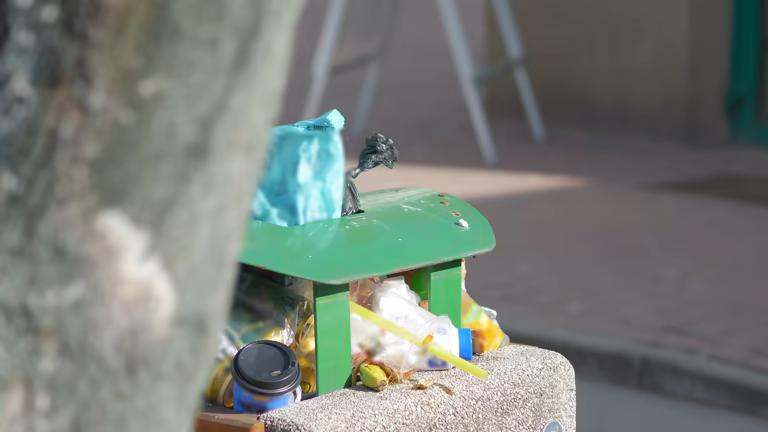trash: (347, 241, 505, 388), (243, 101, 405, 237), (199, 272, 322, 416)
trash_can_overflow: (150, 61, 628, 432)
